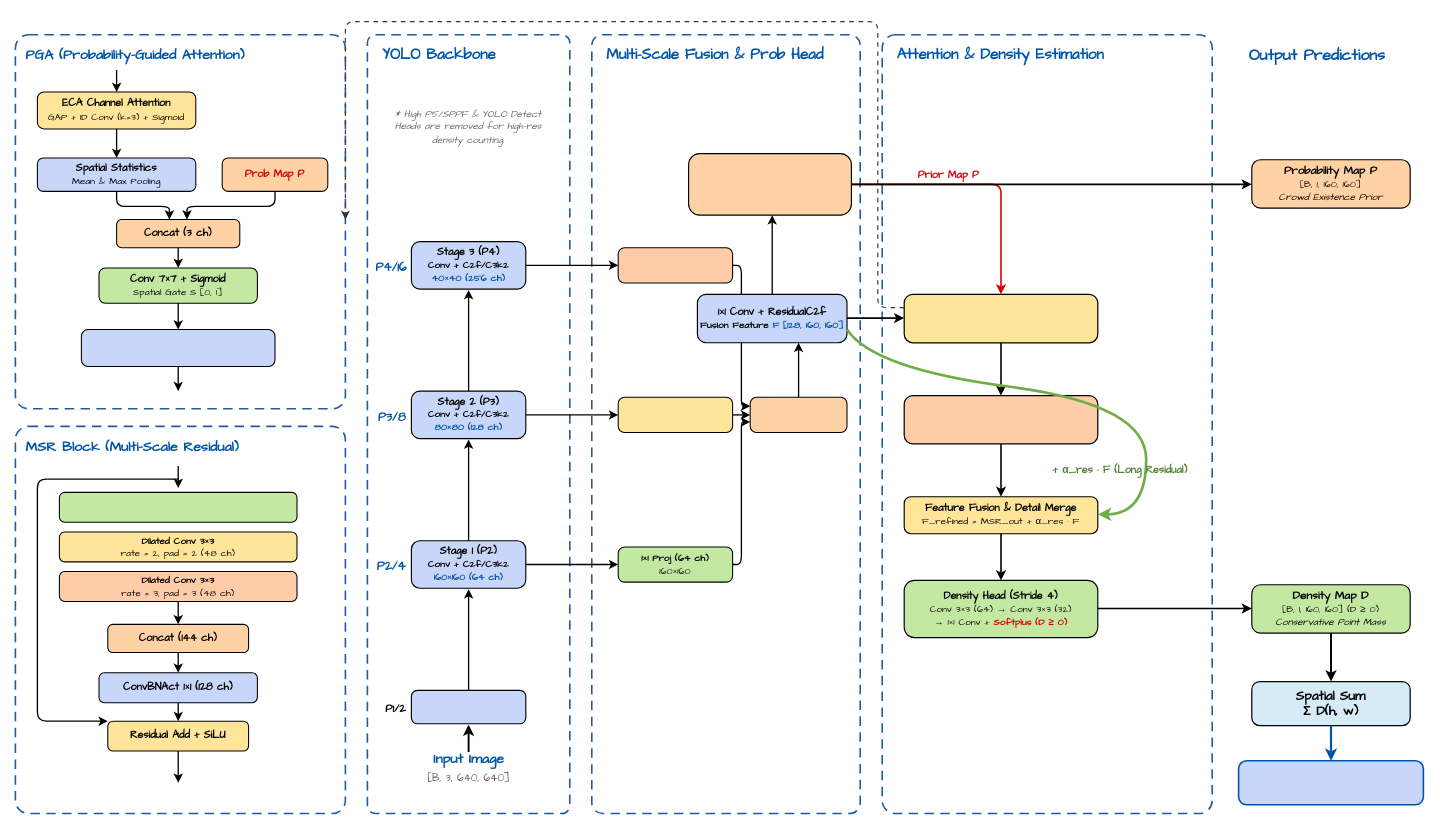
This 1440x830 diagram has some shape labels left out. Each missing label, with the centre of its shape:
1×1 Proj + Up 2× 80×80 → 160×160: [675,414]
1×1 Proj + Up 4× 40×40 → 160×160: [675,265]
Concat (192 ch) P2 + P3↑ + P4↑: [798,414]
Dilated Conv 3×3 rate = 1, pad = 1 (48 ch): [177,506]
Estimated Count N (Exact Sum, No FC Layer): [1330,782]
MSR Refinement (×3 Blocks) Multi-Scale Dilated Residuals (r=1, 2, 3): [1000,419]
Probability Head Conv 3×3 (64) → Conv 3×3 (32) → 1×1 Logit + Sigmoid: [770,184]
Probability-Guided Attention (PGA) ECA Channel + [P, Mean, Max] Spatial Gate: [1000,318]
Residual Gating F_out = F_ca ⊙ (1.0 + α·S): [177,348]
Stem Conv (s=2) 320×320: [468,706]
